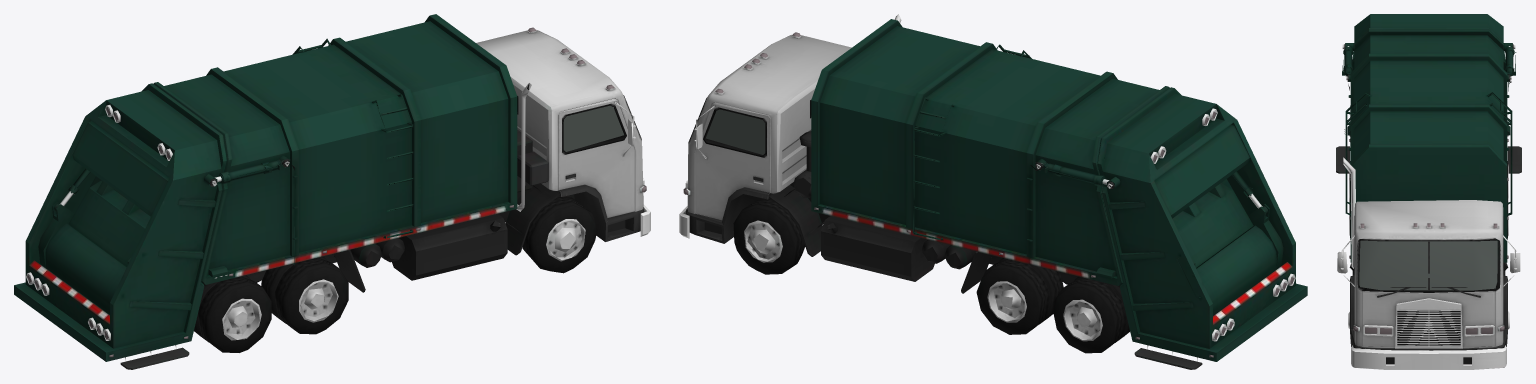
File: civ-garbage.lod0.glb
3 renders of one model, left to right at view 1: azimuth 30°, elevation 25°; view 2: azimuth 150°, elevation 25°; view 3: azimuth 270°, elevation 25°, orthographic. The views are drawn at different scales.
Parts seen in each view (by area): view 1: garbage_truck_garbagetruck_tex_0, garbage_truck_garbagetruck_glass_0; view 2: garbage_truck_garbagetruck_tex_0, garbage_truck_garbagetruck_glass_0; view 3: garbage_truck_garbagetruck_tex_0, garbage_truck_garbagetruck_glass_0.
Part boxes in pixels (x1,y1,x2,y2): garbage_truck_garbagetruck_tex_0: [14, 14, 650, 369]; garbage_truck_garbagetruck_glass_0: [27, 27, 646, 357]; garbage_truck_garbagetruck_tex_0: [679, 14, 1307, 369]; garbage_truck_garbagetruck_glass_0: [683, 32, 1294, 357]; garbage_truck_garbagetruck_tex_0: [1336, 14, 1521, 369]; garbage_truck_garbagetruck_glass_0: [1349, 135, 1508, 334].
Bounding box in the file's own units: 7.65 × 2.83 × 2.62.
2 materials, 1 textured.
